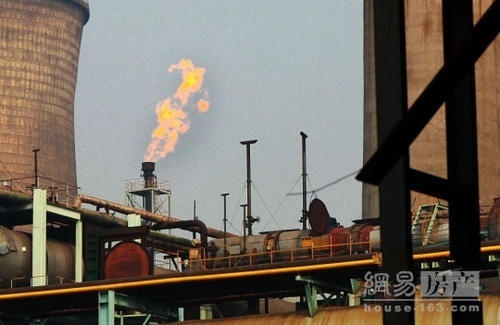fire: (144, 54, 211, 160)
